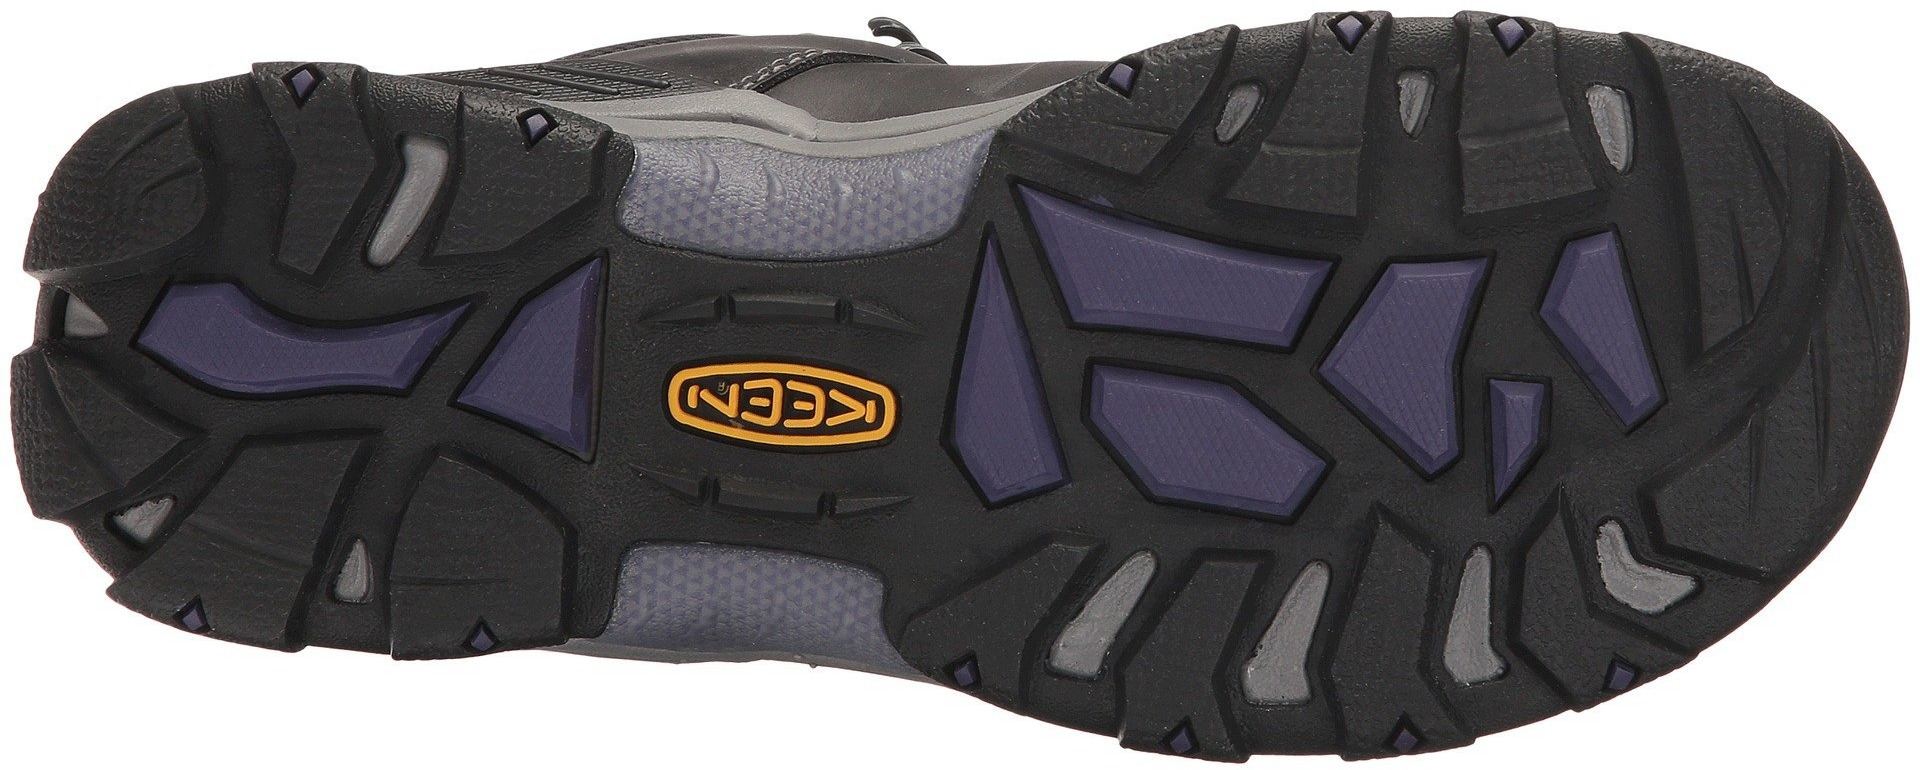chevron: (1204, 547, 1373, 716), (326, 121, 495, 285), (1389, 531, 1551, 690), (1580, 495, 1712, 623)
exclude: (478, 621, 959, 769)
other: (146, 260, 336, 433), (422, 513, 528, 607), (711, 553, 800, 637)
polygon: (1310, 241, 1531, 465), (1523, 233, 1717, 425)
quad: (943, 191, 1338, 550), (647, 285, 918, 526), (429, 249, 651, 471), (1436, 370, 1591, 519)
ribbon: (1692, 207, 1892, 404)
text: (671, 346, 785, 458), (776, 357, 890, 466)
triangle: (1559, 72, 1668, 180), (91, 457, 201, 559), (43, 274, 136, 372), (1373, 56, 1464, 147)
